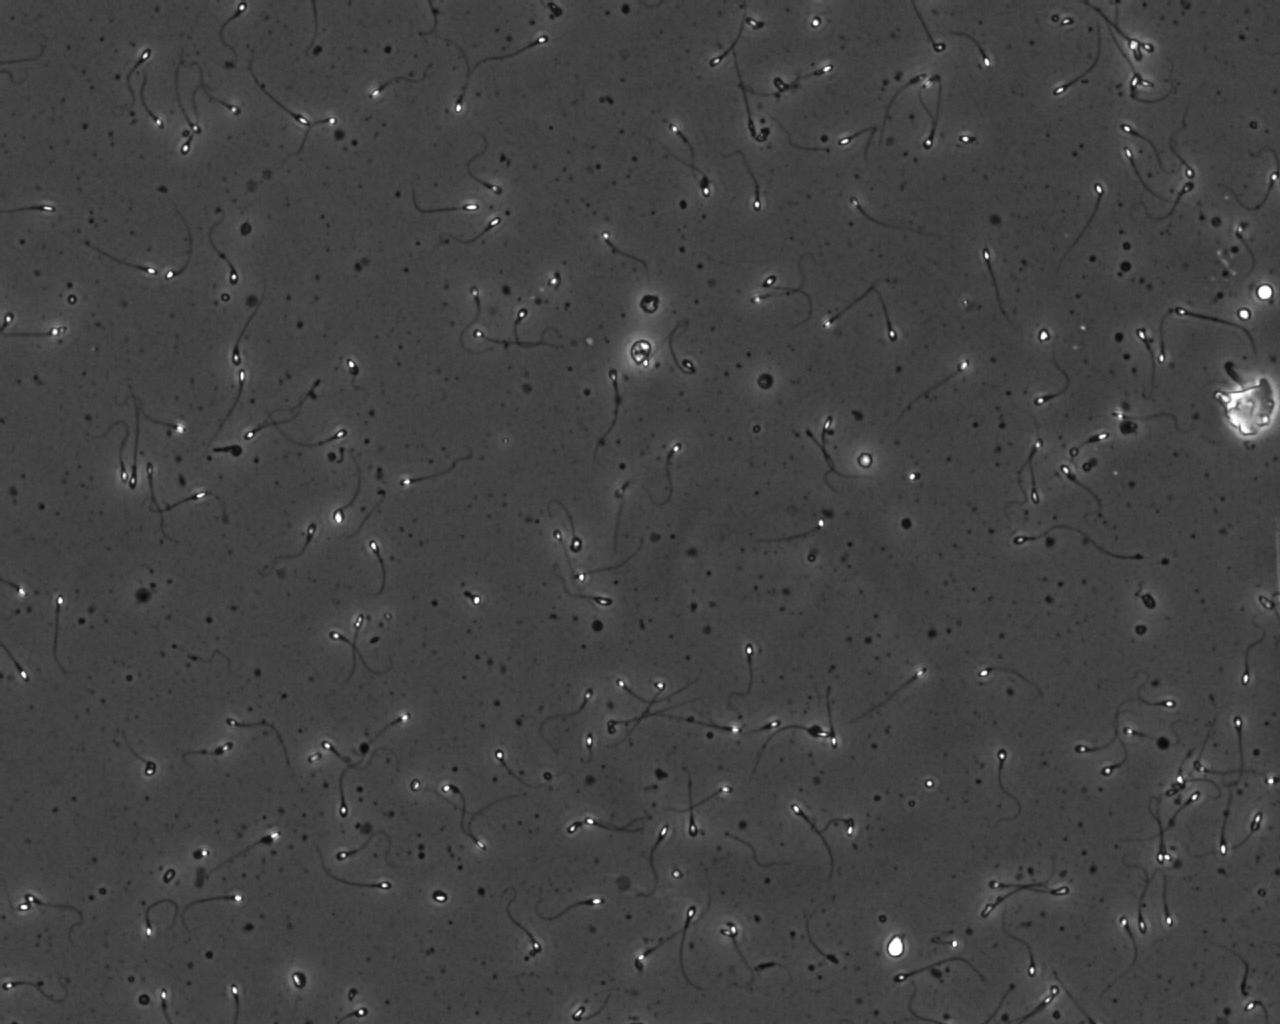cell: (626, 335, 656, 369), (882, 931, 909, 962), (636, 290, 664, 318), (1252, 279, 1278, 305), (752, 369, 778, 394), (852, 448, 878, 473)
